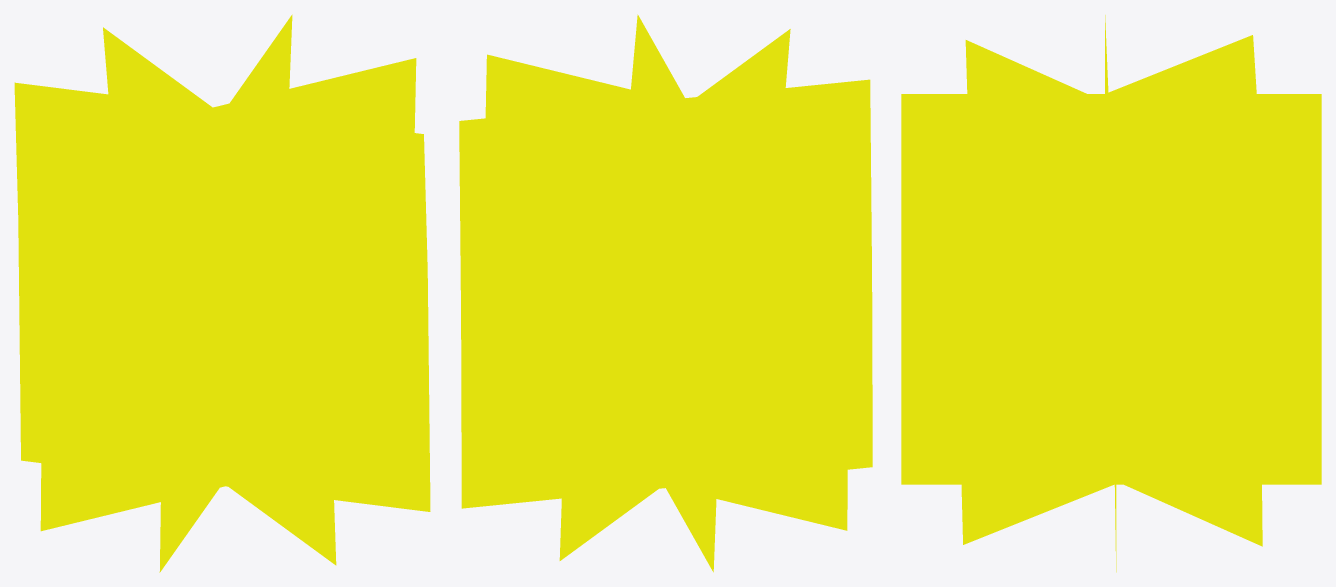
File: Foliage_Trees_Tree_4_Brich_Tree4_Low.glb
3 renders of one model, left to right at view 1: azimuth 30°, elevation 25°; view 2: azimuth 150°, elevation 25°; view 3: azimuth 270°, elevation 25°, orthographic.
Visible parts, largest first — view 1: Lowest; view 2: Lowest; view 3: Lowest.
Part boxes in pixels (x1,y1,x2,y2): Lowest: (14,14,430,572); Lowest: (459,14,872,572); Lowest: (901,15,1321,572).
Bounding box in the file's own units: 5.6 × 5.61 × 5.6.
Materials: 1 (1 with a texture image).
